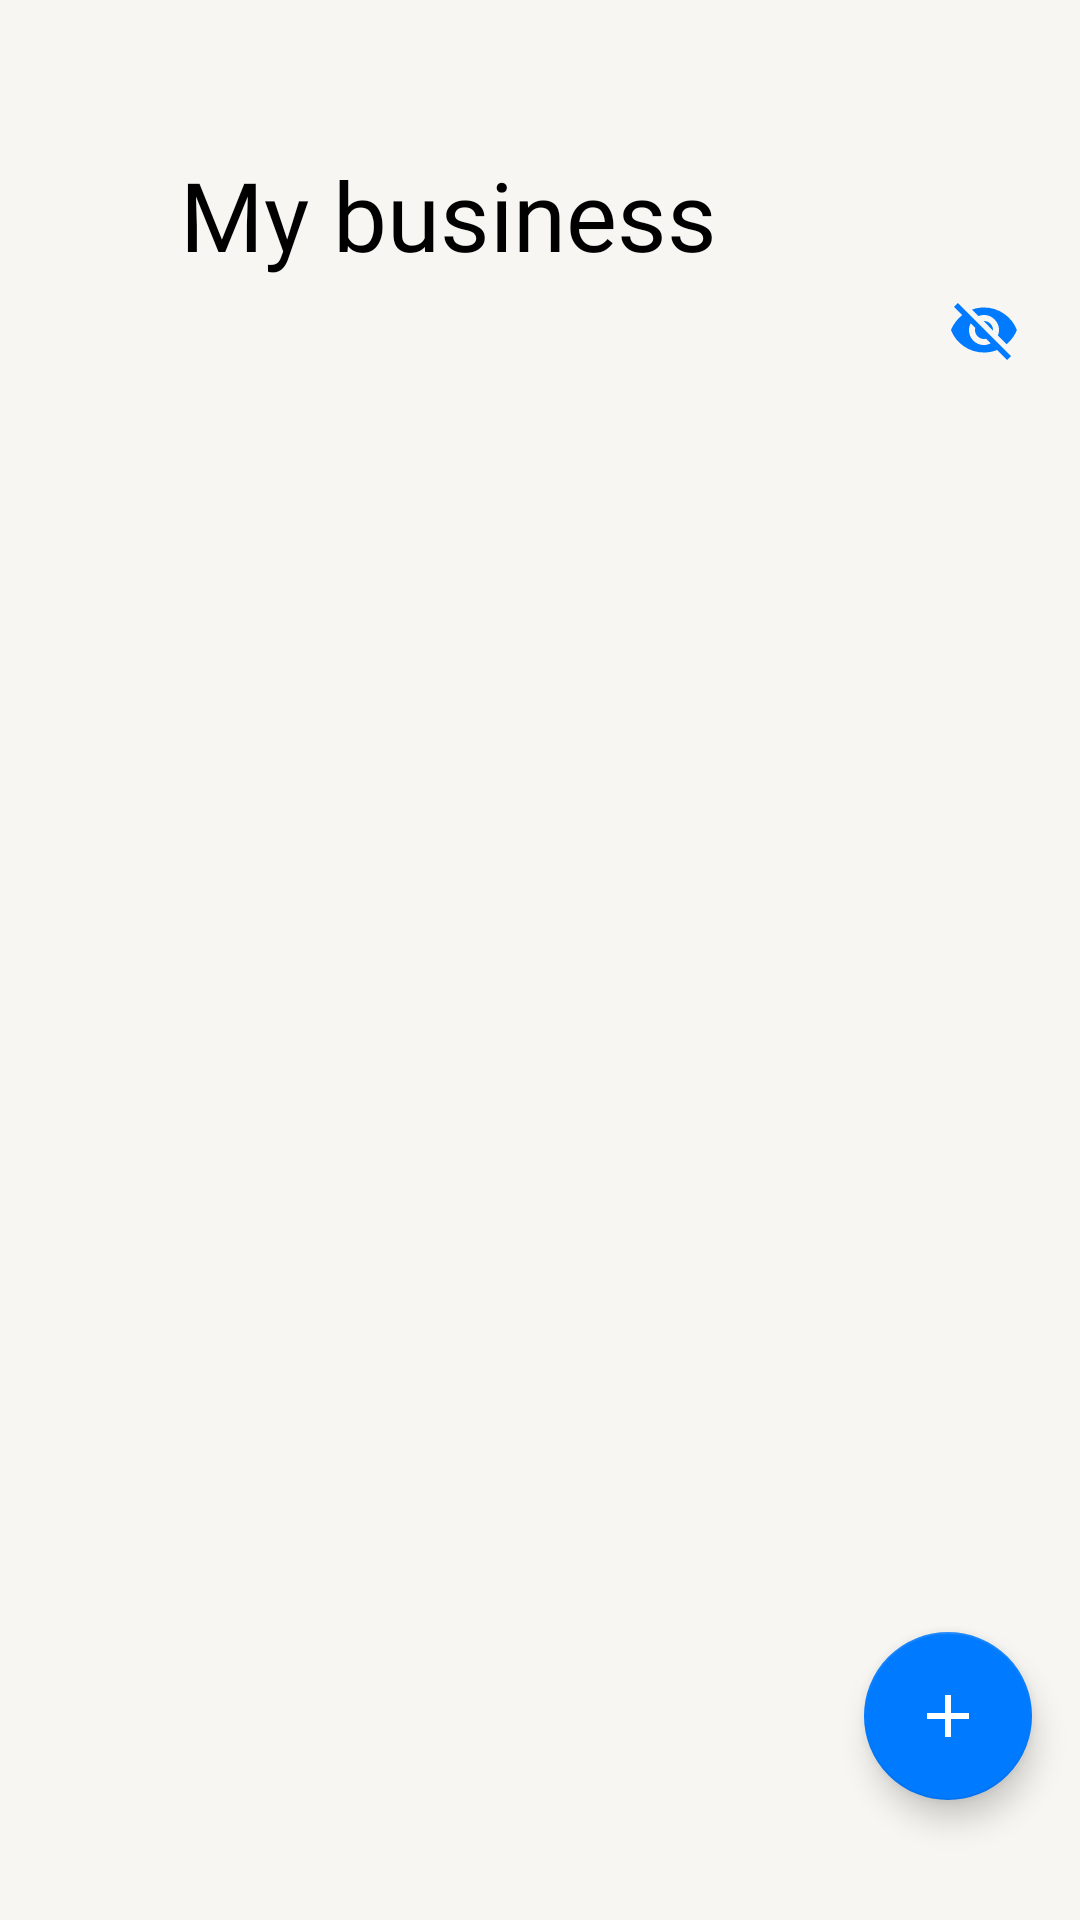

Locate icon controls on the screen. Image size 1080 x 1920, boxes as (x1, y1, x2, y2).
plus: (864, 1632, 1032, 1800)
visibility off: (951, 303, 1017, 360)
